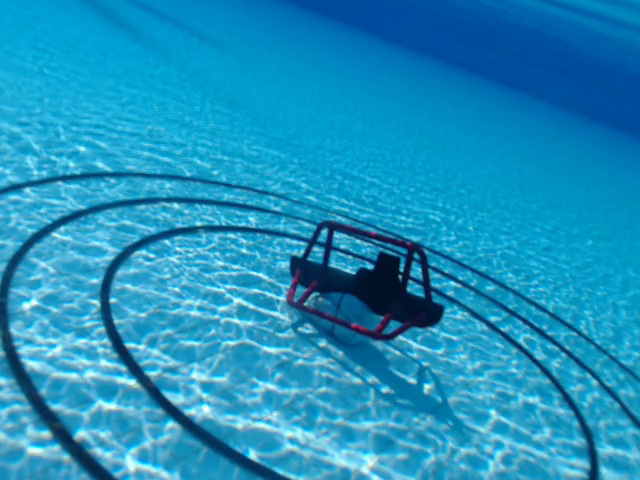submarine: (283, 218, 447, 346)
